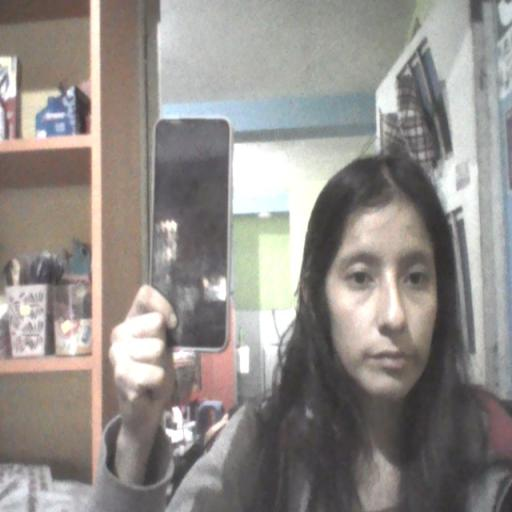phone: (144, 108, 242, 364)
